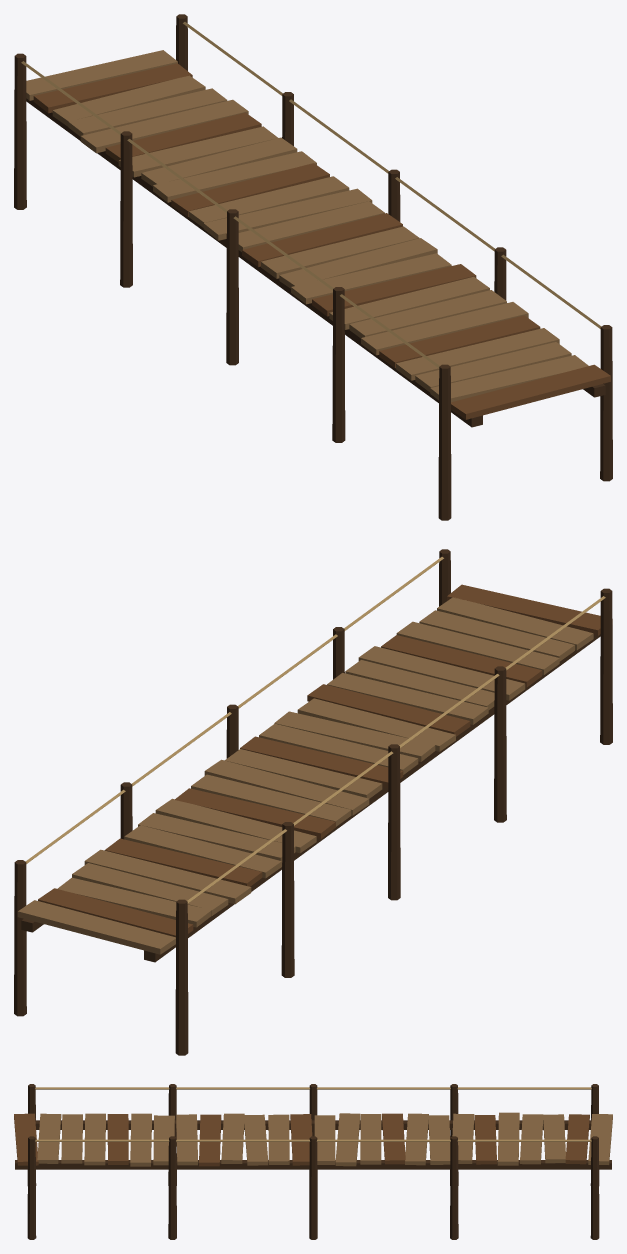
The model's file is desert_footbridge.glb.
3 views of the same model, one above another, from view 1: azimuth 30°, elevation 25°; view 2: azimuth 150°, elevation 25°; view 3: azimuth 270°, elevation 25° (orthographic). The views are drawn at different scales.
Visible parts, largest first — view 1: desert_footbridge; view 2: desert_footbridge; view 3: desert_footbridge.
Part boxes in pixels (x1,y1,x2,y2): desert_footbridge: (14,14,612,520); desert_footbridge: (14,549,612,1055); desert_footbridge: (14,1084,612,1239).
Size of the model in its own units: 3.07 by 2.6 by 14.04.
